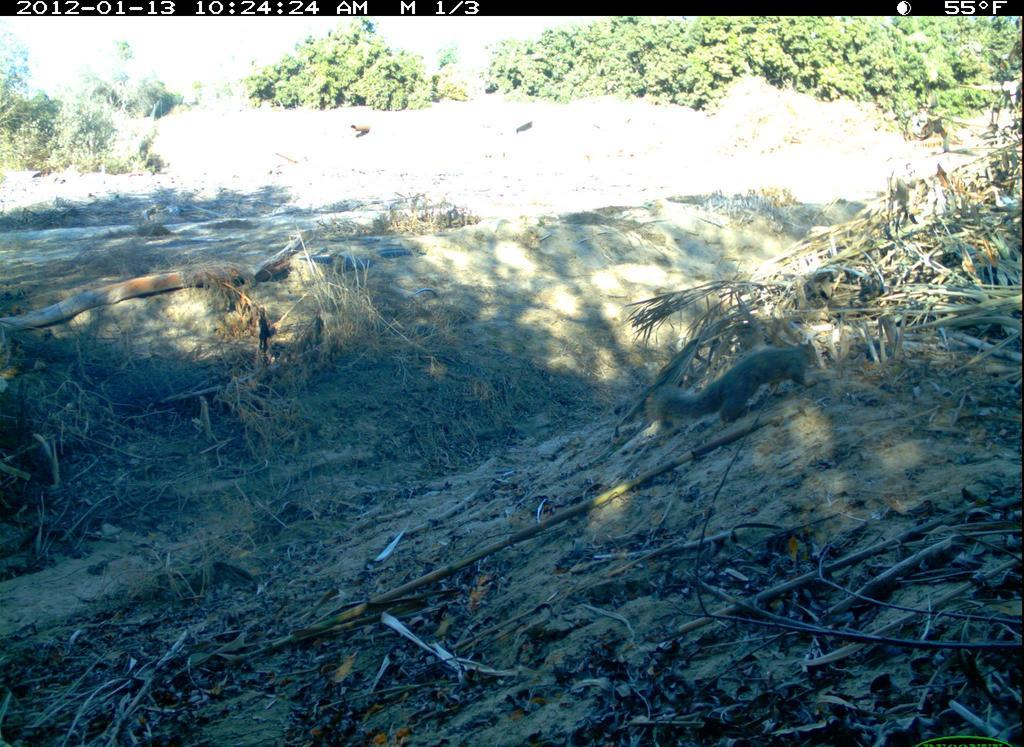squirrel: (643, 337, 835, 429)
